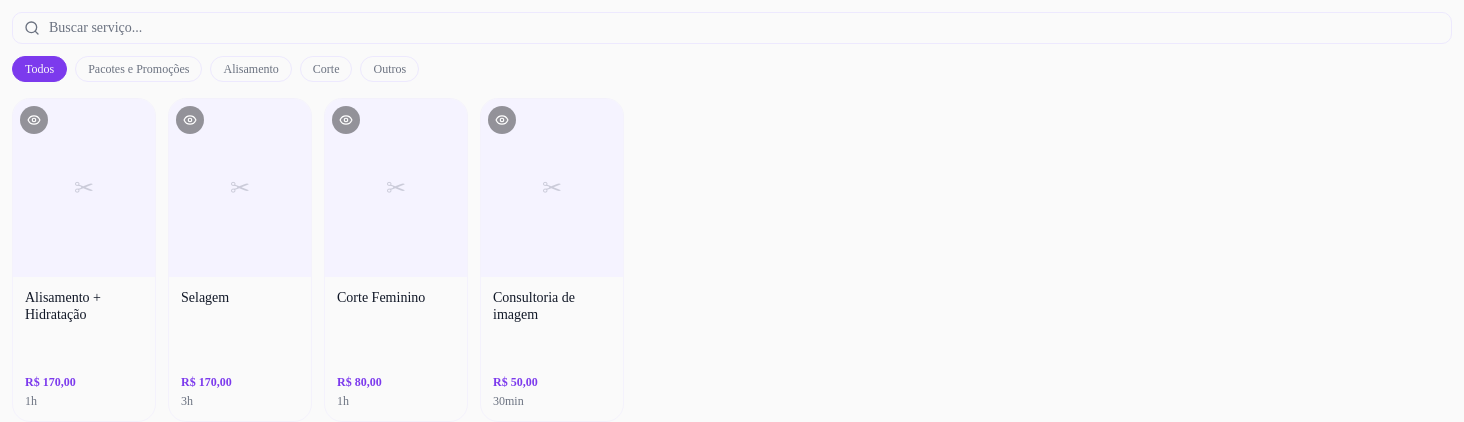
Test: ServicePickerWithCategories › busca também encontra pacotes e promoções pelo nome
Type "julho" into the field with placeholder "Buscar serviço..." at {"x": 732, "y": 28}, box [12,12,1452,44]
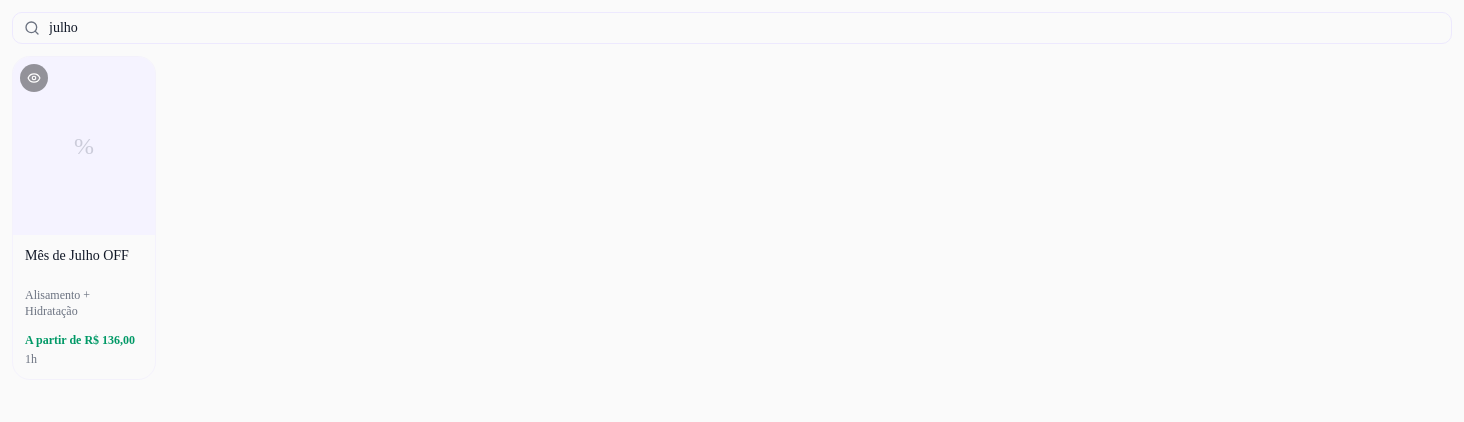
Expected: the text "Mês de Julho OFF" is shown, [25,246,143,264]
Expected: the button "Corte Feminino" is gone
